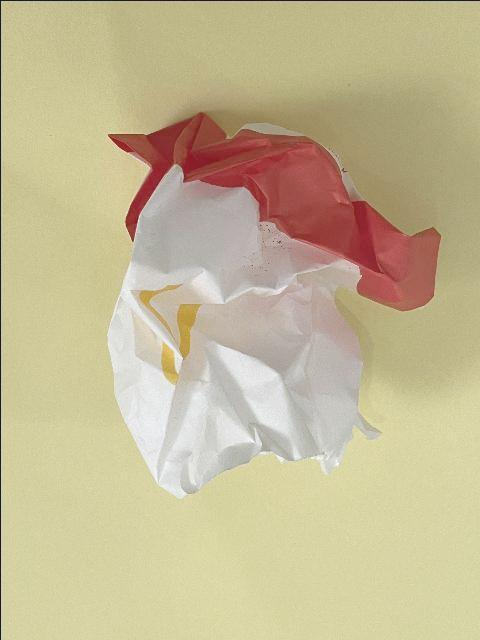paperbag: (104, 111, 442, 501)
